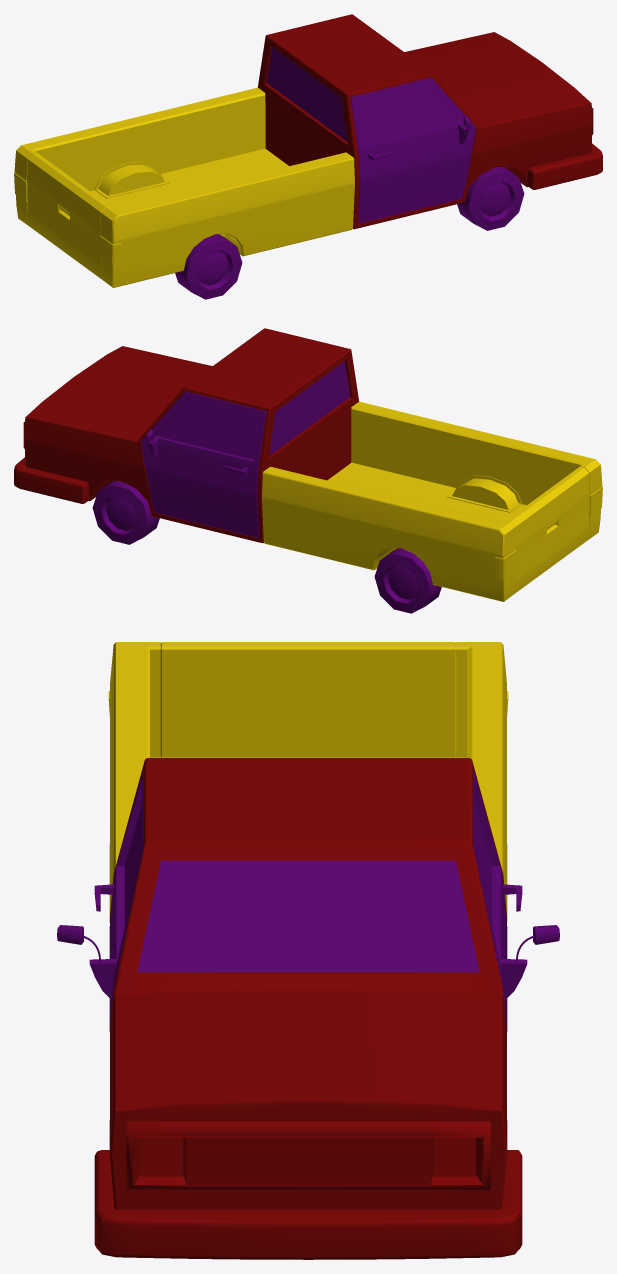
File: Truck.fbx
3 views of the same model, one above another, from view 1: azimuth 30°, elevation 25°; view 2: azimuth 150°, elevation 25°; view 3: azimuth 270°, elevation 25° (orthographic). The views are drawn at different scales.
Parts seen in each view (by area): view 1: polySurface115, polySurface114, polySurface118, polySurface103, pasted__pCylinder4, polySurface116, polySurface99, polySurface97; view 2: polySurface115, polySurface114, polySurface118, polySurface103, pasted__pCylinder4, polySurface116, polySurface99, polySurface97; view 3: polySurface114, polySurface103, polySurface116, polySurface99, polySurface115, polySurface118, polySurface101, pCube2.
Part boxes in pixels (x1,y1,x2,y2): polySurface115: (14, 87, 354, 287); polySurface114: (257, 14, 593, 229); polySurface118: (350, 77, 475, 223); polySurface103: (267, 47, 460, 145); pasted__pCylinder4: (175, 167, 524, 299); polySurface116: (27, 152, 110, 266); polySurface99: (527, 143, 602, 189); polySurface97: (95, 161, 169, 198); polySurface115: (262, 401, 602, 601); polySurface114: (23, 328, 359, 543); polySurface118: (141, 391, 266, 537); polySurface103: (156, 361, 349, 459); pasted__pCylinder4: (92, 481, 441, 613); polySurface116: (506, 466, 589, 580); polySurface99: (14, 457, 89, 503); polySurface97: (447, 475, 521, 512); polySurface114: (109, 758, 507, 1209); polySurface103: (124, 803, 492, 972); polySurface116: (160, 642, 456, 757); polySurface99: (94, 1150, 522, 1259); polySurface115: (108, 642, 508, 922); polySurface118: (109, 768, 507, 1031); polySurface101: (141, 1137, 475, 1176); pCube2: (57, 925, 559, 999).
Size of the model in its own units: 748 by 237 by 330.
